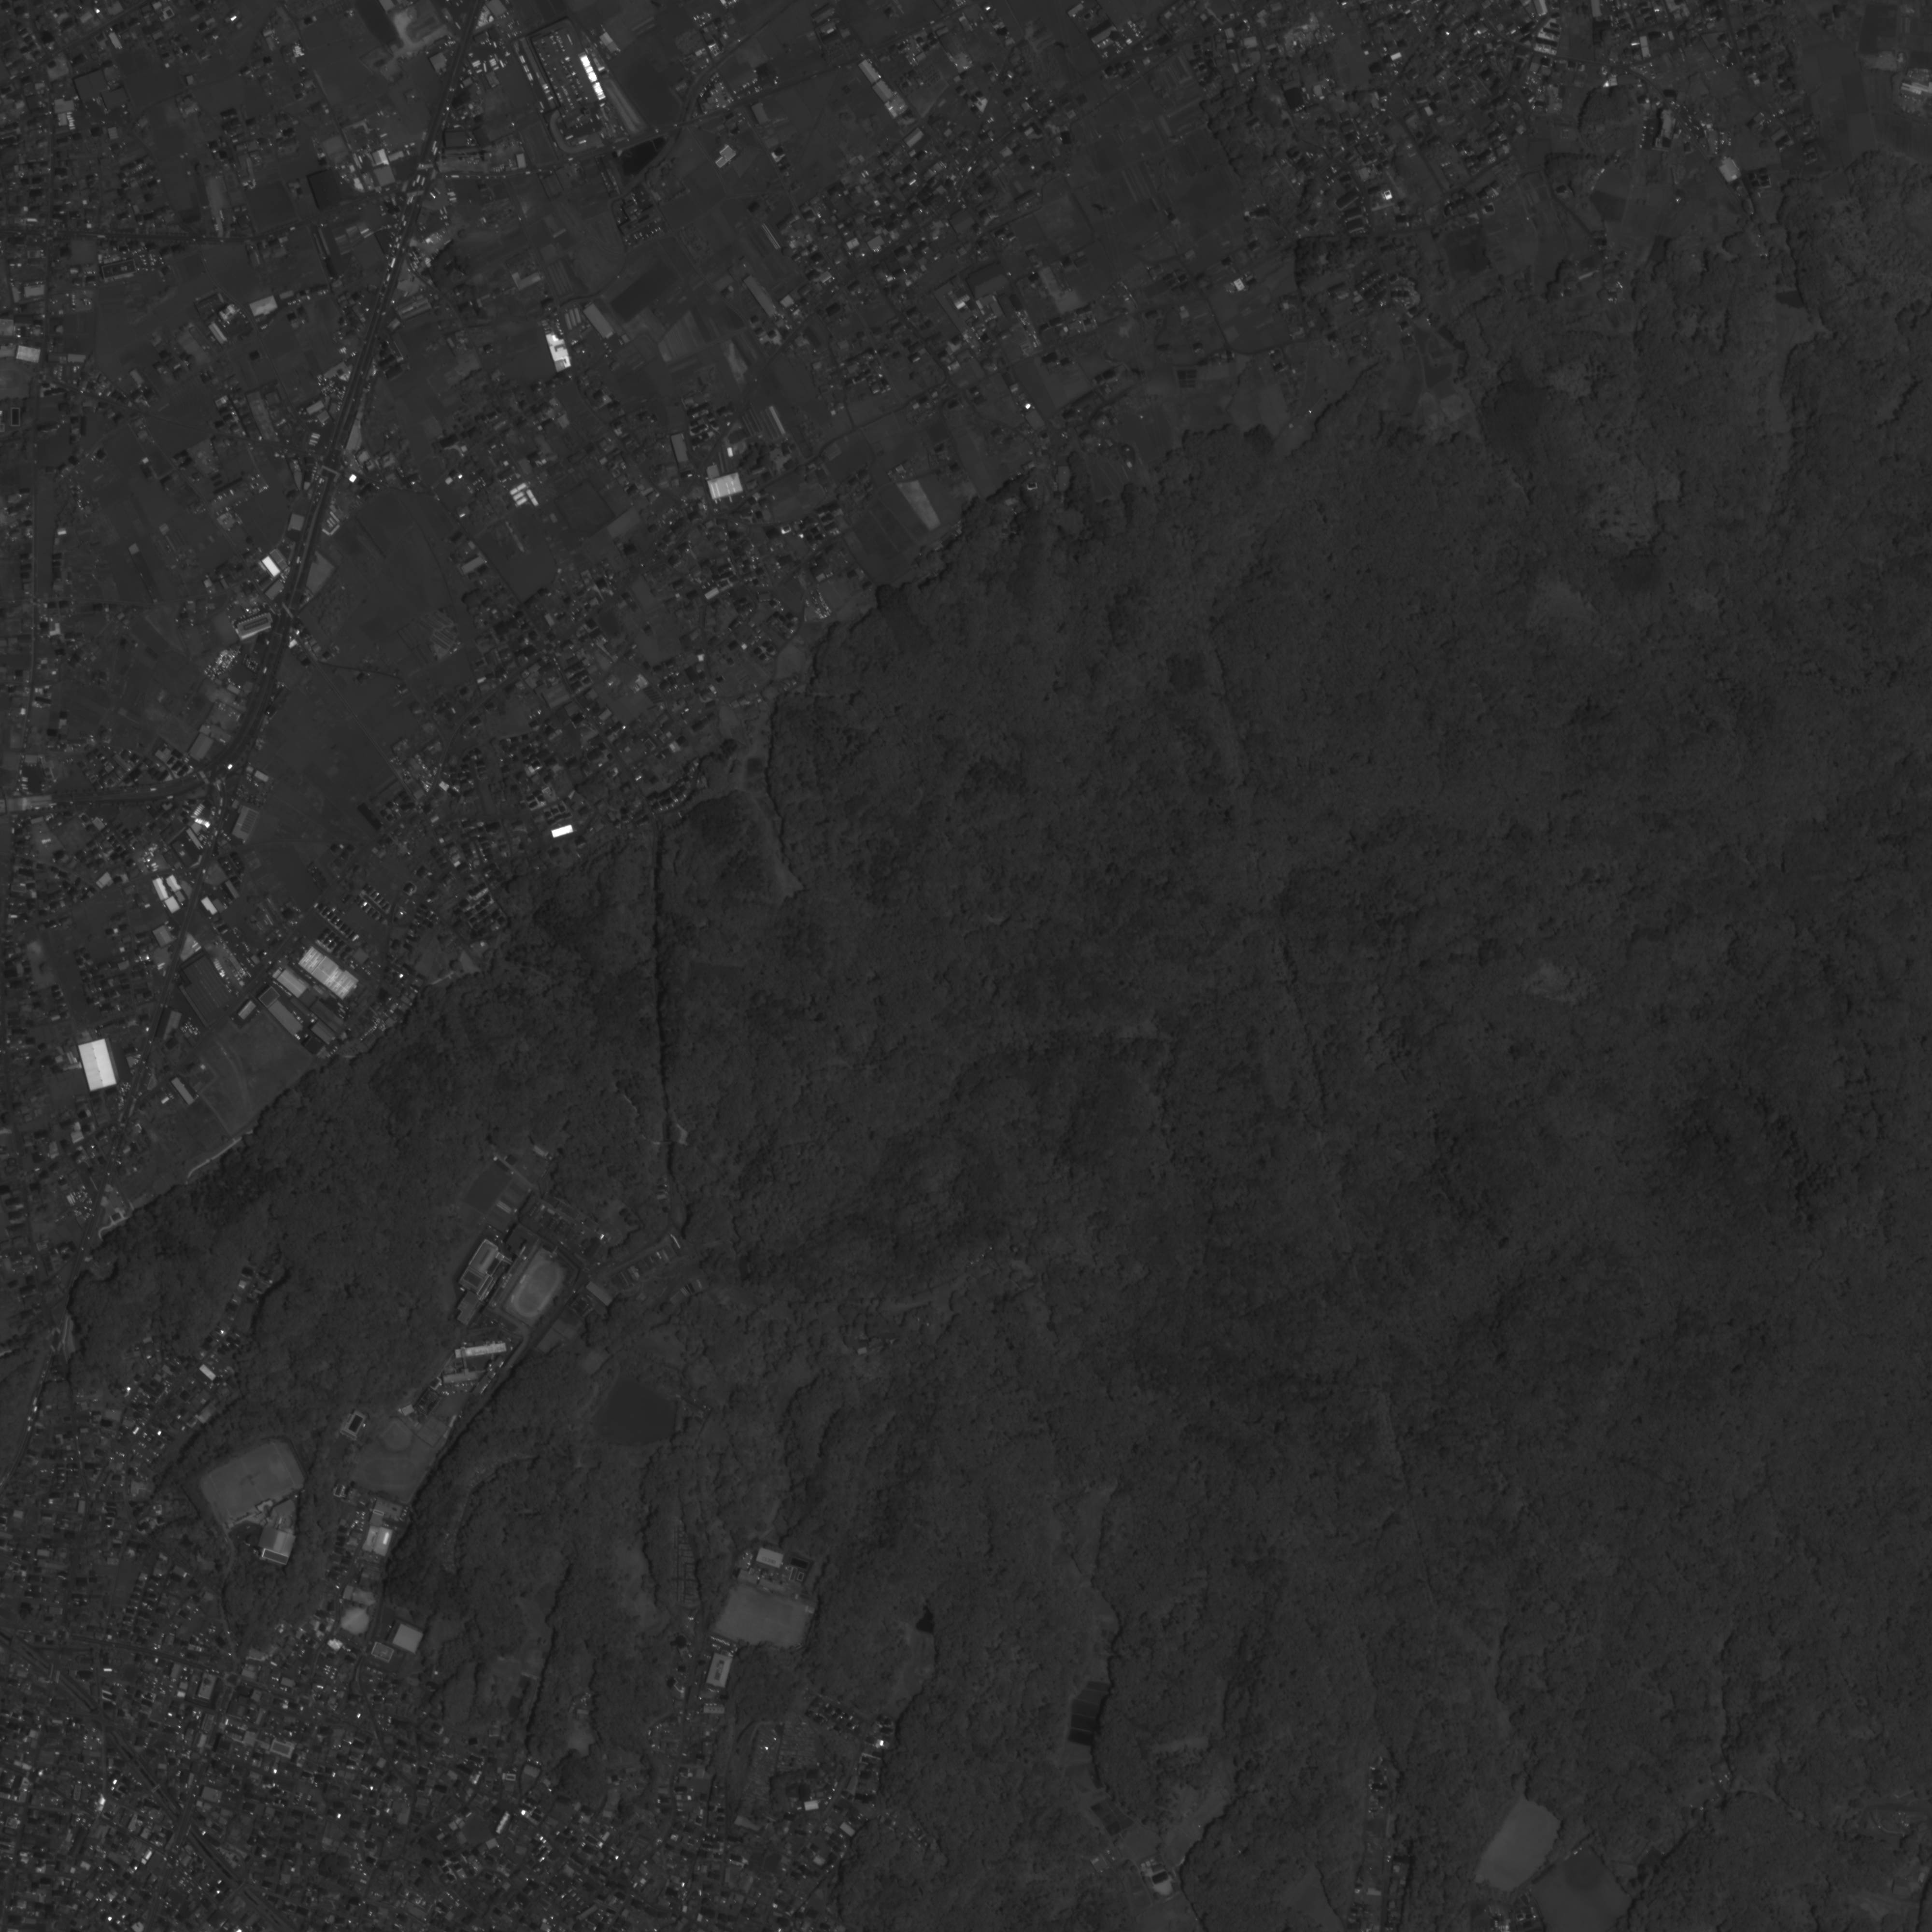baseball diamond: (1555, 1842, 1615, 1902), (373, 1414, 421, 1465)
bridge: (175, 1806, 198, 1842), (234, 1881, 251, 1897), (50, 1663, 62, 1683)
ground track field: (510, 1258, 564, 1322), (357, 1456, 421, 1488)
soccer ball field: (203, 1442, 299, 1520)
